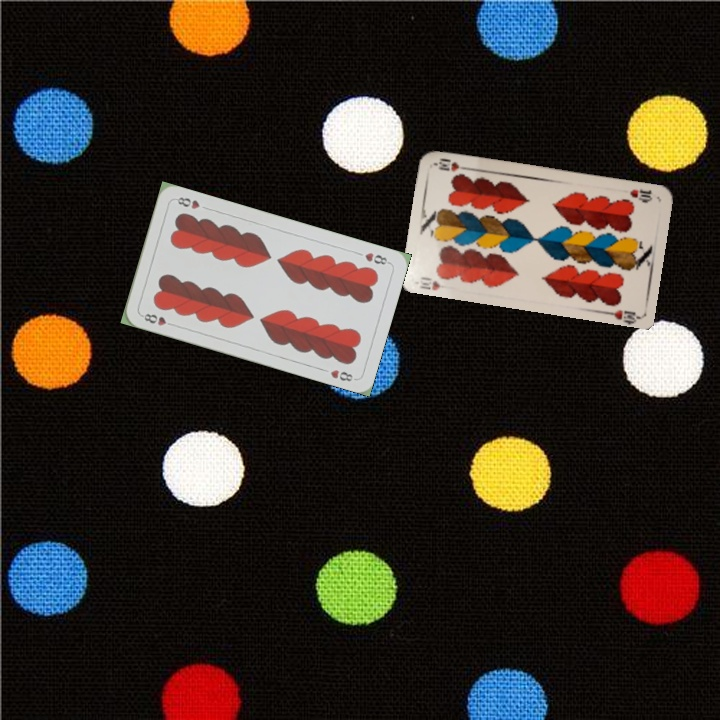H10: (626, 185, 654, 204), (413, 277, 443, 293)
H8: (137, 309, 177, 329), (361, 248, 392, 267)
